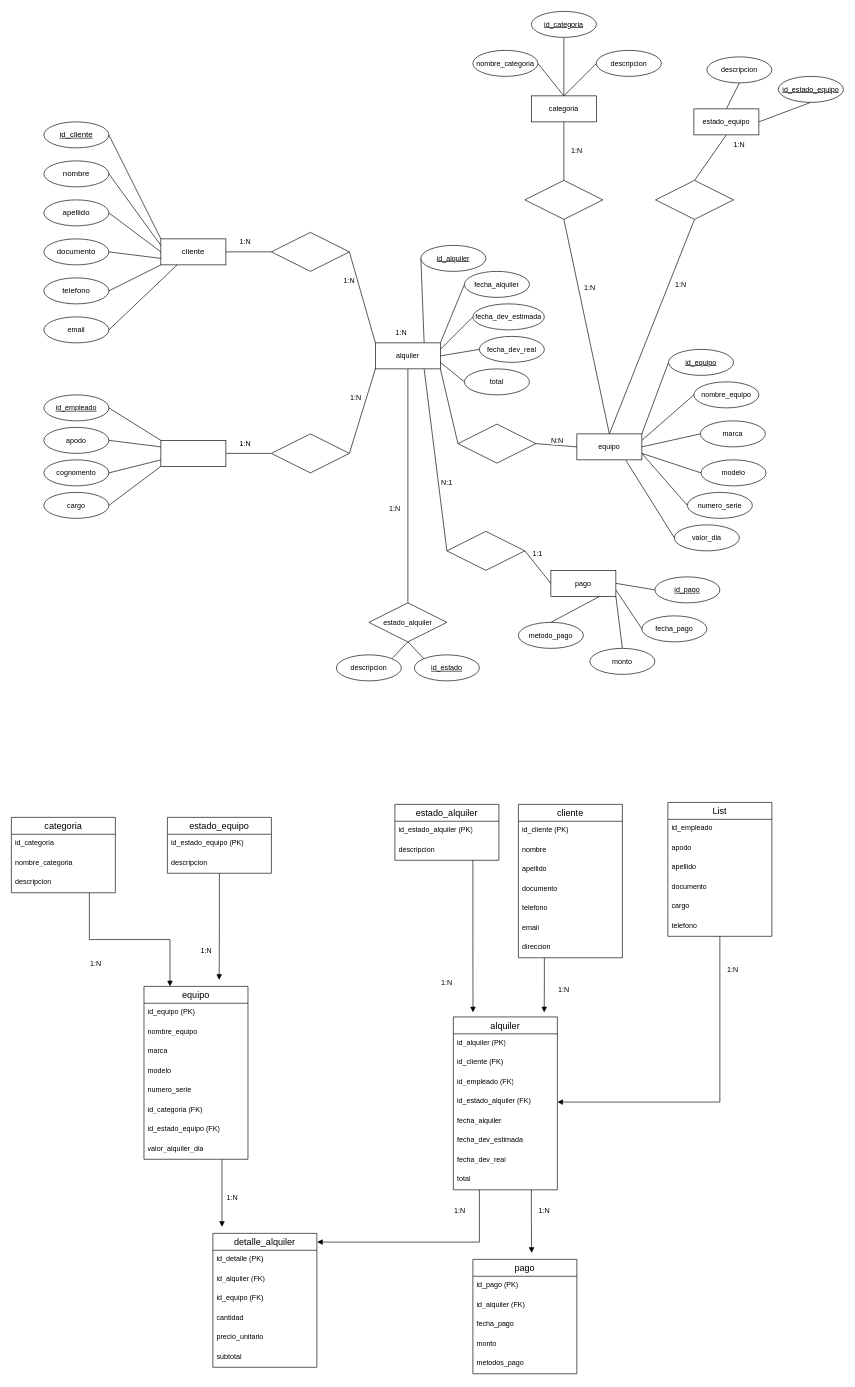
Some shapes in this 855 by 1387 pixel diagram are drawn without their labels. The shapes that lost their labels are listed below. From the top down, each one's centre as x and y in pixels, then its label:
At [563,199]: "pertenece".
At [694,199]: "tiene_eq".
At [310,251]: "realiza".
At [193,453]: "empleado".
At [310,453]: "atiende".
At [496,443]: "incluye".
At [485,550]: "registra".
